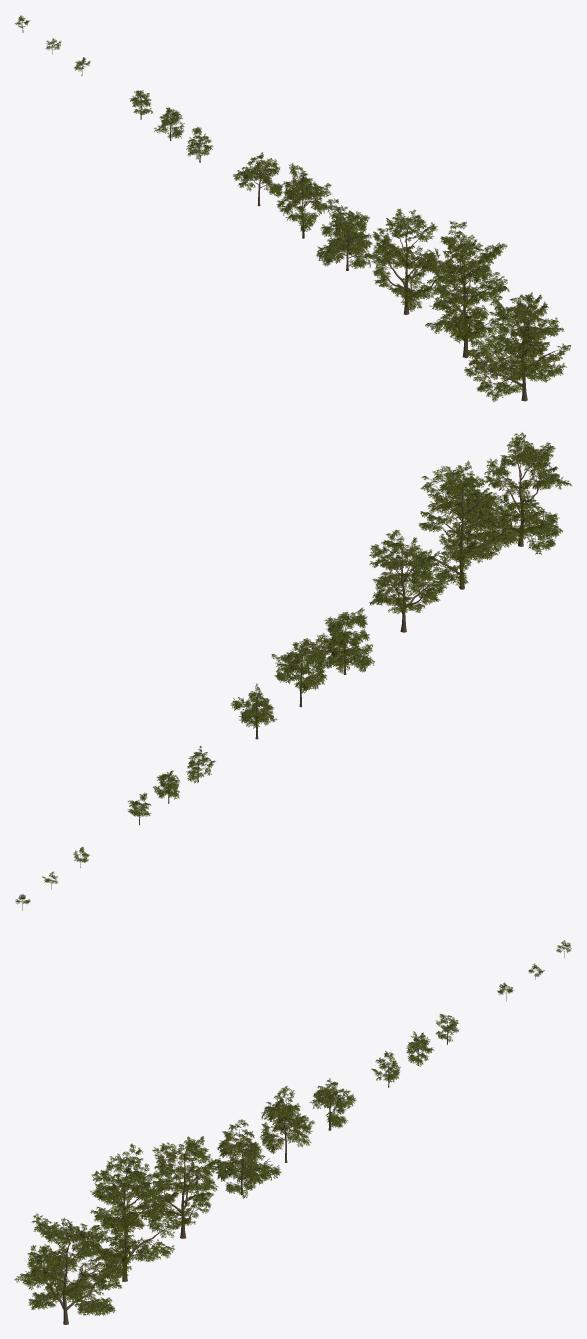
Rendered from maple_trees_planting_clean.glb.
3 renders of one model, top to bottom at view 1: azimuth 30°, elevation 25°; view 2: azimuth 150°, elevation 25°; view 3: azimuth 330°, elevation 25°, orthographic.
Visible parts, largest first — view 1: Acer_large_2_LOD0, Acer_large_1_LOD0, Acer_large_3_LOD0, Acer_medium_1_LOD0, Acer_medium_2_LOD0, Acer_medium_3_LOD0, Acer_small_2_LOD0, Acer_small_1_LOD0; view 2: Acer_large_2_LOD0, Acer_large_1_LOD0, Acer_large_3_LOD0, Acer_medium_1_LOD0, Acer_medium_2_LOD0, Acer_medium_3_LOD0; view 3: Acer_large_2_LOD0, Acer_large_1_LOD0, Acer_large_3_LOD0, Acer_medium_1_LOD0, Acer_medium_2_LOD0, Acer_medium_3_LOD0, Acer_small_2_LOD0, Acer_small_1_LOD0.
Boxes of the visible parts, box(x1,y1,x2,y2) form: Acer_large_2_LOD0: box(424, 221, 511, 357); Acer_large_1_LOD0: box(463, 292, 570, 401); Acer_large_3_LOD0: box(364, 208, 449, 314); Acer_medium_1_LOD0: box(316, 198, 376, 270); Acer_medium_2_LOD0: box(276, 163, 331, 238); Acer_medium_3_LOD0: box(233, 152, 284, 206); Acer_small_2_LOD0: box(154, 107, 184, 140); Acer_small_1_LOD0: box(186, 126, 212, 162); Acer_large_2_LOD0: box(407, 460, 520, 589); Acer_large_1_LOD0: box(464, 432, 571, 557); Acer_large_3_LOD0: box(369, 530, 449, 632); Acer_medium_1_LOD0: box(308, 607, 374, 674); Acer_medium_2_LOD0: box(271, 638, 326, 707); Acer_medium_3_LOD0: box(230, 683, 277, 739); Acer_large_2_LOD0: box(70, 1143, 180, 1282); Acer_large_1_LOD0: box(14, 1213, 130, 1324); Acer_large_3_LOD0: box(137, 1136, 218, 1238); Acer_medium_1_LOD0: box(213, 1119, 281, 1198); Acer_medium_2_LOD0: box(260, 1085, 314, 1162); Acer_medium_3_LOD0: box(309, 1078, 356, 1130); Acer_small_2_LOD0: box(406, 1031, 433, 1066); Acer_small_1_LOD0: box(371, 1051, 400, 1087).
Bounding box in the file's own units: 1869 × 2405 × 17992.
2 materials, 2 textured.
